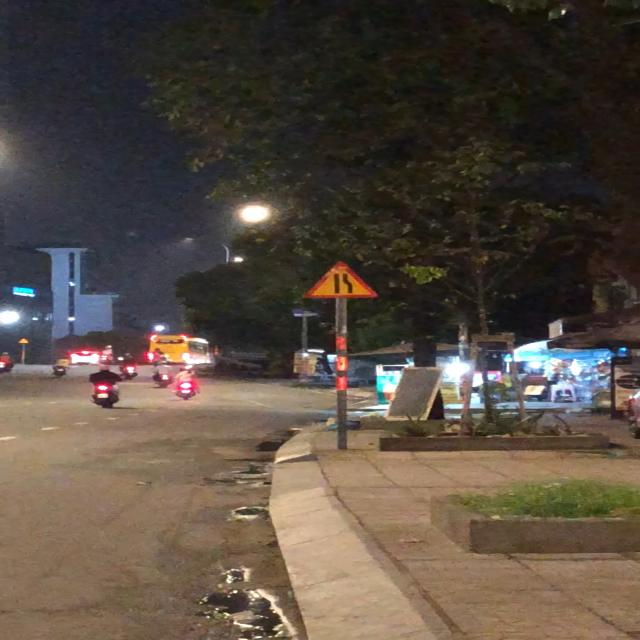Bien bao duong bi thu hep: (293, 255, 387, 302)
